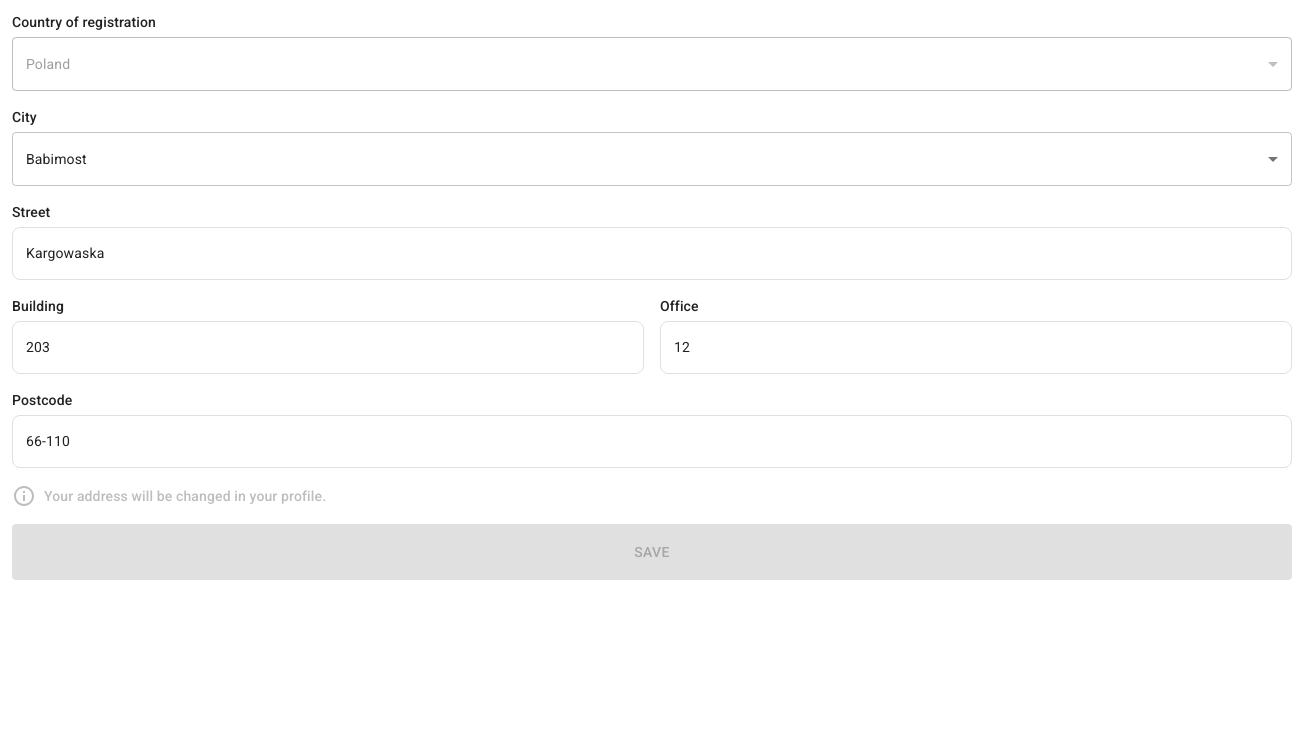
Test: EditCorporateAddressForm › has enabled "Save" button if something changed and form is valid
The width and height of the screenshot is (1304, 732).
Expected: the button with test id "save-button" is shown, [12,524,1292,580]
Replace the text in the field below "Street" with "Street Name". click: point(652, 254)
box: [12,227,1292,280]
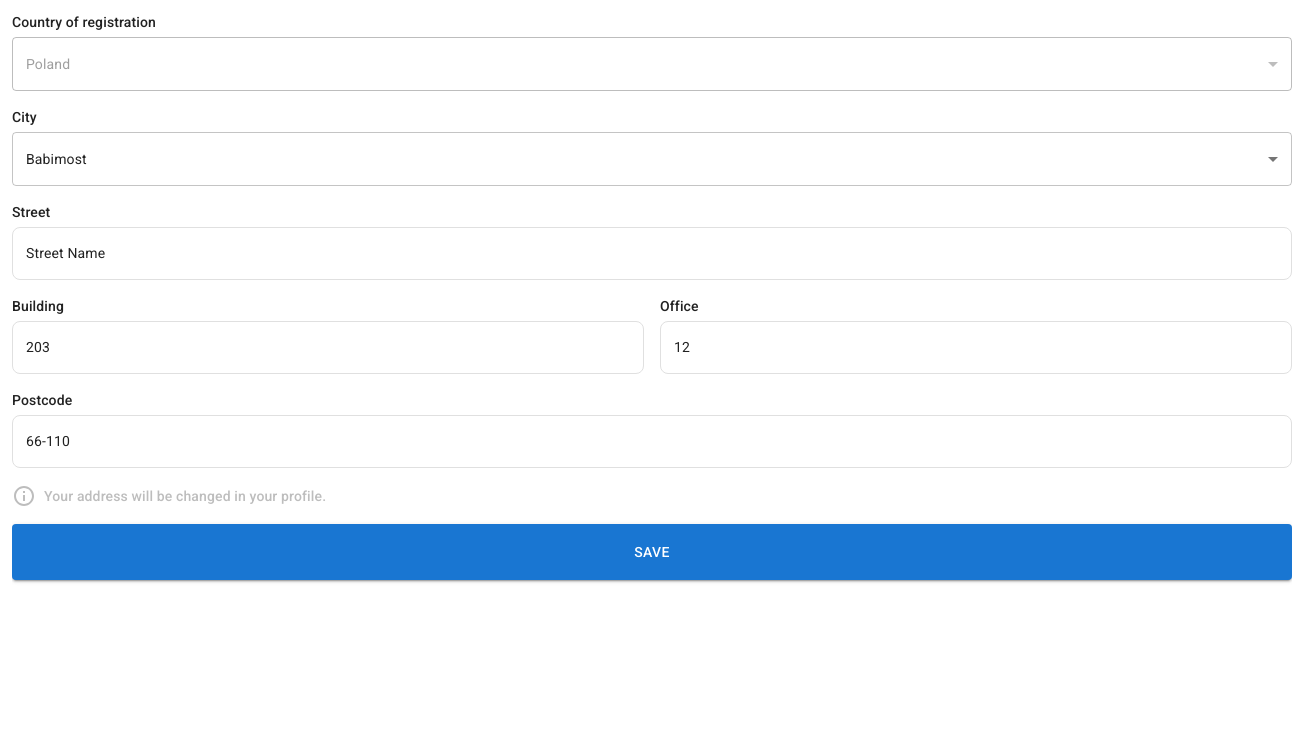
Result: the button with test id "save-button" is enabled at [12,524,1292,580]
